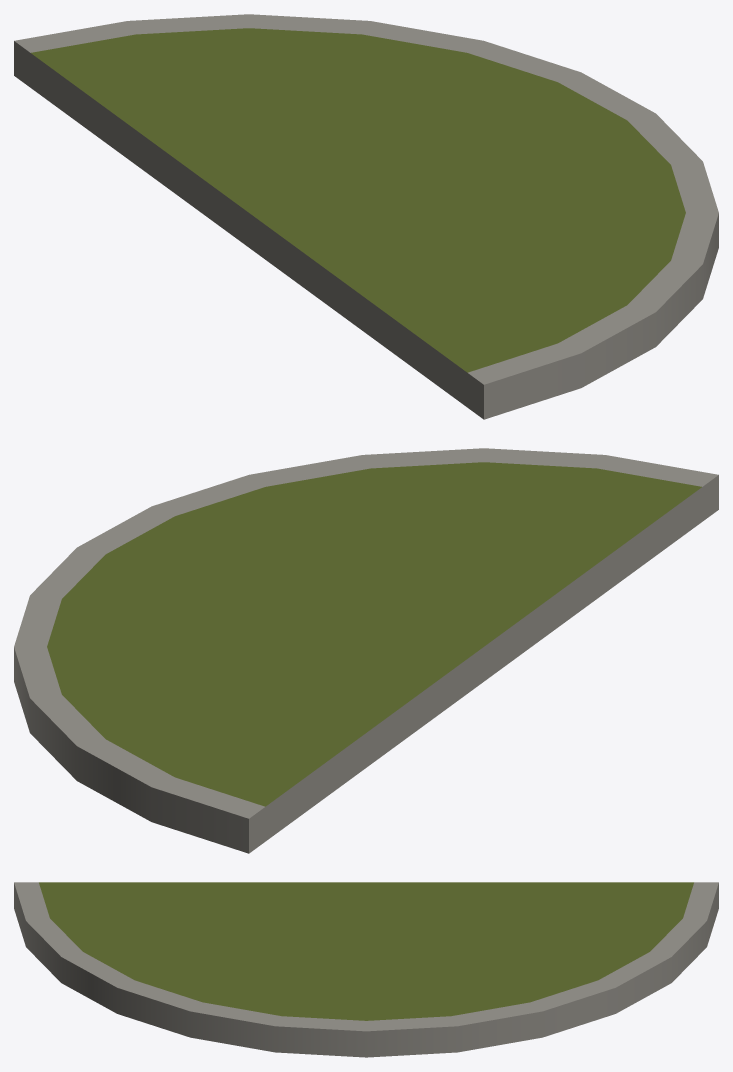
File: median_nose_4p27.glb
3 renders of one model, top to bottom at view 1: azimuth 30°, elevation 25°; view 2: azimuth 150°, elevation 25°; view 3: azimuth 270°, elevation 25°, orthographic. The views are drawn at different scales.
Parts seen in each view (by area): view 1: median_nose_4p27-col; view 2: median_nose_4p27-col; view 3: median_nose_4p27-col.
Part boxes in pixels (left/top/right/bottom): median_nose_4p27-col: left=14, top=14, right=718, bottom=419; median_nose_4p27-col: left=14, top=448, right=718, bottom=853; median_nose_4p27-col: left=14, top=882, right=718, bottom=1057.
Size of the model in its own units: 2.13 by 0.175 by 4.27.
